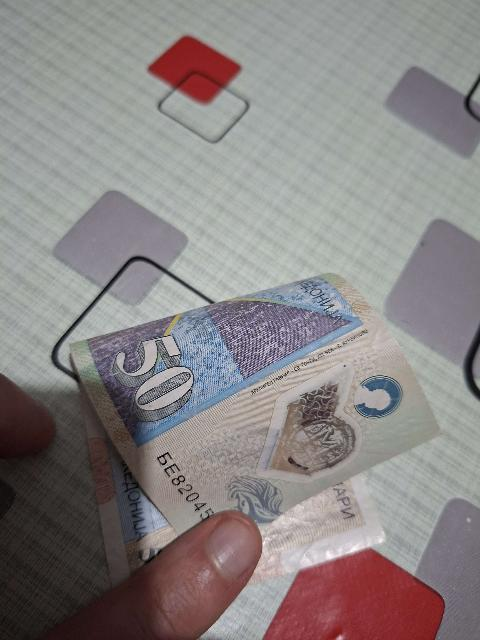note: (69, 274, 434, 591)
